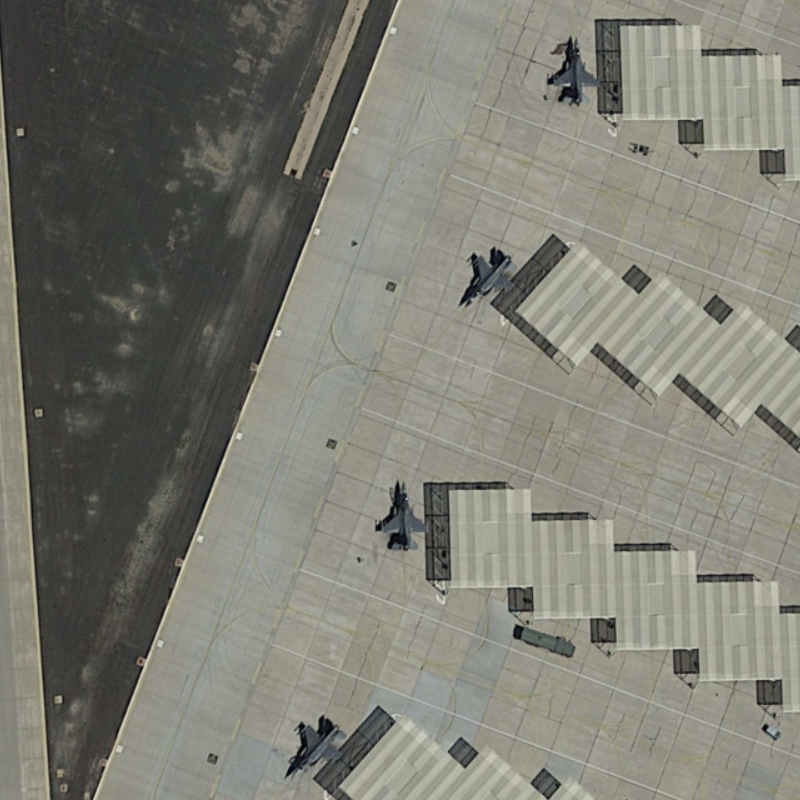A5: (283, 713, 349, 786), (373, 477, 431, 554), (544, 35, 602, 108), (460, 247, 518, 313)
